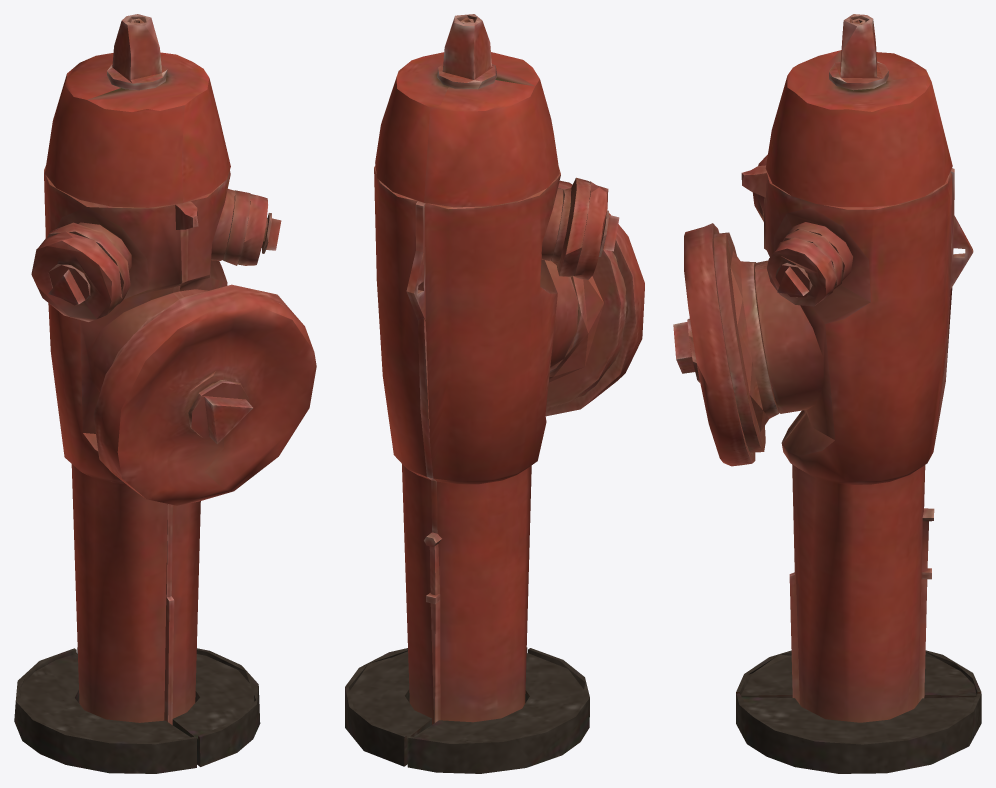
Rendered from fire_hydrant.glb.
3 views of the same model, side by side, from view 1: azimuth 30°, elevation 25°; view 2: azimuth 150°, elevation 25°; view 3: azimuth 270°, elevation 25° (orthographic).
Parts seen in each view (by area): view 1: fire_hydrant; view 2: fire_hydrant; view 3: fire_hydrant.
Boxes of the visible parts, left/top/right/bottom form: fire_hydrant: left=14, top=14, right=316, bottom=773; fire_hydrant: left=345, top=14, right=644, bottom=773; fire_hydrant: left=673, top=14, right=981, bottom=773.
Size of the model in its own units: 0.2742 by 0.7996 by 0.3178.
Materials: 1 (1 with a texture image).
